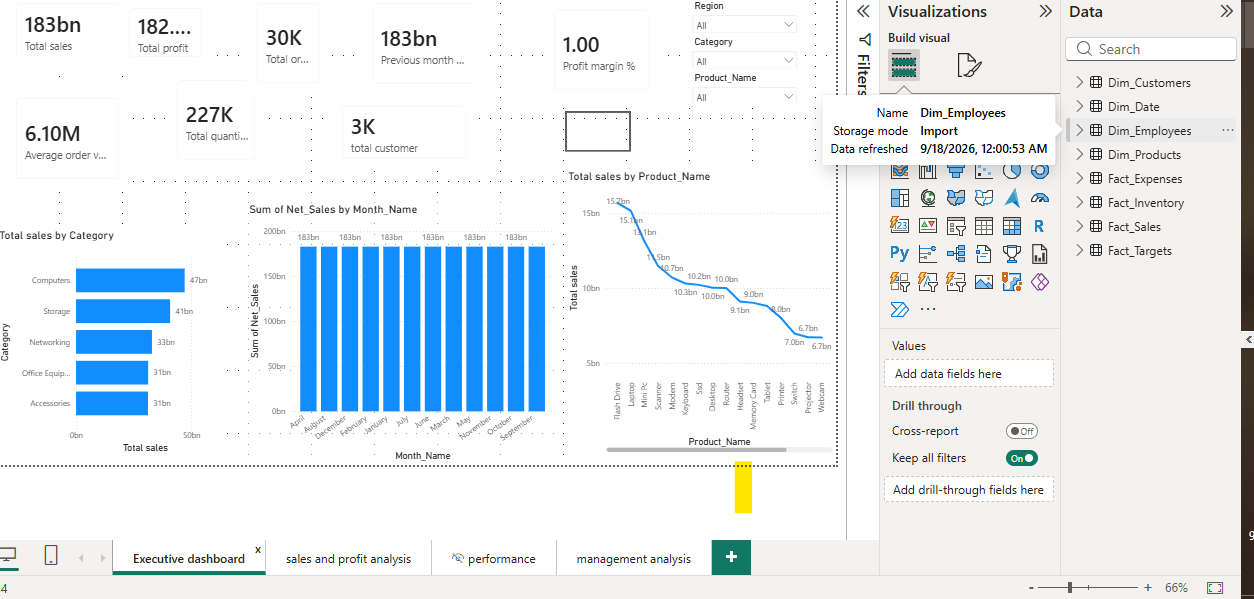

The dashboard page shown, as its layout file describes it:
{"tool":"powerbi","page":{"name":"Executive dashboard","canvas":[1280,720],"ordinal":0},"visuals":[{"type":"cardVisual","fields":{"Data":["Dim_Customers.Total sales"]},"box":[13.7,0,190.5,115.8],"z":0},{"type":"cardVisual","fields":{"Data":["Dim_Customers.Total quantity"]},"box":[259.2,116.8,153.6,156.8],"z":1000},{"type":"cardVisual","fields":{"Data":["Dim_Customers.Total order"]},"box":[380.8,0,129.6,156.8],"z":2000},{"type":"cardVisual","fields":{"Data":["Dim_Customers.Total profit"]},"box":[185.6,8,145.6,108.8],"z":3000},{"type":"clusteredColumnChart","fields":{"Category":["Dim_Date.Month_Name"],"Y":["Sum(Fact_Sales.Net_Sales)"]},"box":[381,320,473.6,400],"z":4000},{"type":"lineChart","fields":{"Y":["Dim_Customers.Total sales"],"Category":["Dim_Products.Product_Name"]},"box":[867.2,270.4,412.8,436.8],"z":5000},{"type":"clusteredBarChart","fields":{"Y":["Dim_Customers.Total sales"],"Category":["Dim_Products.Category"]},"box":[0,359.6,352,347.4],"z":6000},{"type":"cardVisual","fields":{"Data":["Dim_Customers.Previous month sales"]},"box":[556.8,0,190,157],"z":7000},{"type":"cardVisual","fields":{"Data":["Dim_Customers.Profit margin %"]},"box":[833.6,11.2,179.2,156.8],"z":8000},{"type":"cardVisual","fields":{"Data":["Dim_Customers.Average order value"]},"box":[14.4,144,190,157],"z":9000},{"type":"cardVisual","fields":{"Data":["Dim_Customers.total customer"]},"box":[510.4,156.8,222.4,113.6],"z":10000},{"type":"slicer","fields":{"Values":["Dim_Customers.Region"]},"box":[1051.2,8,179.2,65.6],"z":11000},{"type":"slicer","fields":{"Values":["Dim_Products.Category"]},"box":[1051.2,62.4,179.2,54.4],"z":12000},{"type":"slicer","fields":{"Values":["Dim_Products.Product_Name"]},"box":[1051.2,116.8,179.2,51.2],"z":13000},{"type":"actionButton","box":[867,181.3,100.6,62.5],"z":14000}]}

Visuals, with their boxes on the page's 1280x720 design canvas (x1, y1, x2, y2). These are canvas units, not pixel positions in the 1254x599 screenshot, which may show the page scaled, cropped or inside an application window:
cardVisual - Dim_Customers.Total sales: 14, 0, 204, 116
cardVisual - Dim_Customers.Total quantity: 259, 117, 413, 274
cardVisual - Dim_Customers.Total order: 381, 0, 510, 157
cardVisual - Dim_Customers.Total profit: 186, 8, 331, 117
clusteredColumnChart - Dim_Date.Month_Name x Sum(Fact_Sales.Net_Sales): 381, 320, 855, 720
lineChart - Dim_Customers.Total sales x Dim_Products.Product_Name: 867, 270, 1280, 707
clusteredBarChart - Dim_Customers.Total sales x Dim_Products.Category: 0, 360, 352, 707
cardVisual - Dim_Customers.Previous month sales: 557, 0, 747, 157
cardVisual - Dim_Customers.Profit margin %: 834, 11, 1013, 168
cardVisual - Dim_Customers.Average order value: 14, 144, 204, 301
cardVisual - Dim_Customers.total customer: 510, 157, 733, 270
slicer - Dim_Customers.Region: 1051, 8, 1230, 74
slicer - Dim_Products.Category: 1051, 62, 1230, 117
slicer - Dim_Products.Product_Name: 1051, 117, 1230, 168
actionButton: 867, 181, 968, 244
